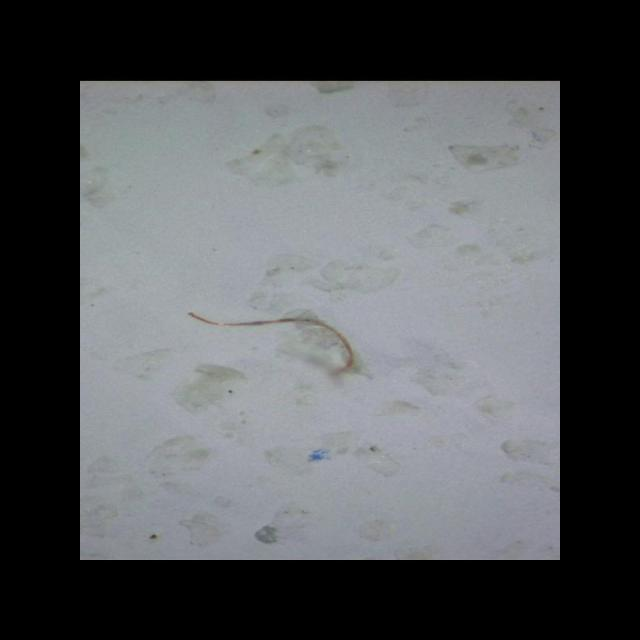Fibre: (186, 310, 380, 378)
